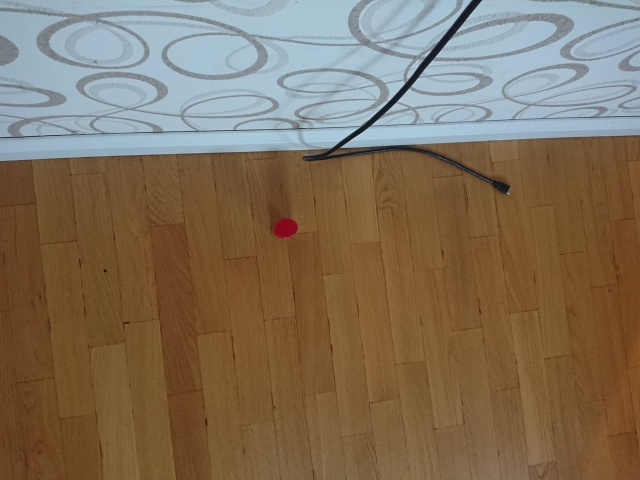Kotanyi Curry Spices Mix 70g: (270, 217, 300, 241)
